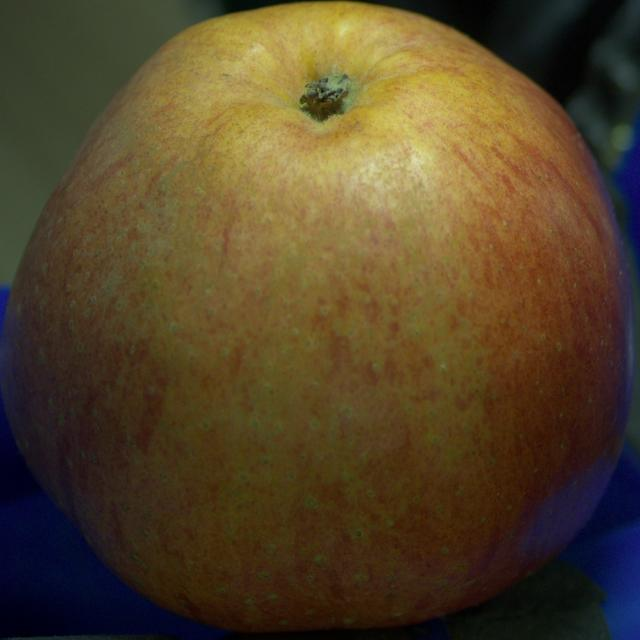apple: (0, 2, 632, 632)
